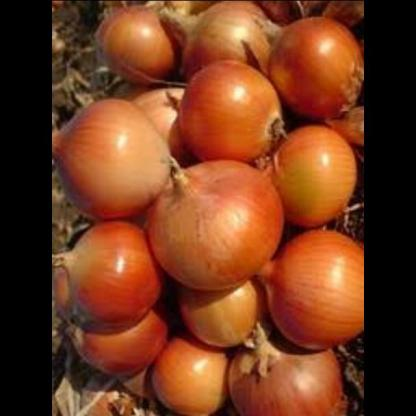onion: (69, 4, 358, 416)
